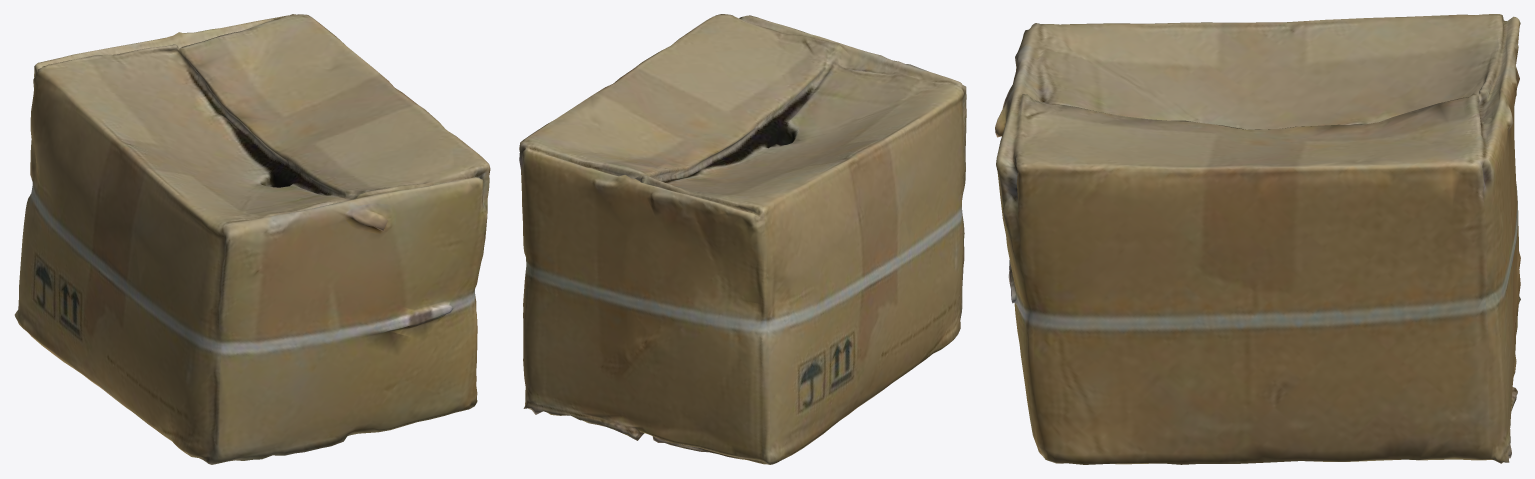
Rendered from cardboard_box_01.glb.
3 views of the same model, side by side, from view 1: azimuth 30°, elevation 25°; view 2: azimuth 150°, elevation 25°; view 3: azimuth 270°, elevation 25° (orthographic). The views are drawn at different scales.
Parts seen in each view (by area): view 1: cardboard_box_01; view 2: cardboard_box_01; view 3: cardboard_box_01.
Part boxes in pixels (x1,y1,x2,y2): cardboard_box_01: [14, 14, 490, 464]; cardboard_box_01: [519, 14, 966, 464]; cardboard_box_01: [995, 14, 1520, 464].
Bounding box in the file's own units: 0.3869 × 0.3418 × 0.5159.
1 material, 1 textured.
